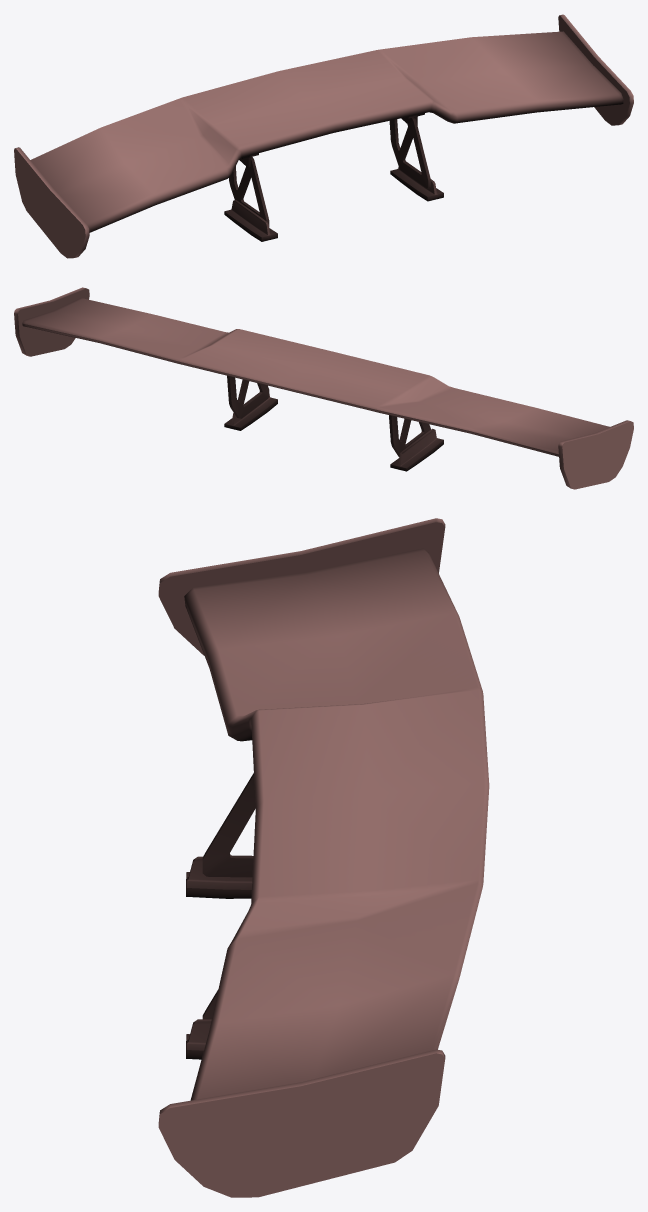
Rendered from Mustang16_Spoiler_07_Trim.fbx.
3 views of the same model, one above another, from view 1: azimuth 30°, elevation 25°; view 2: azimuth 150°, elevation 25°; view 3: azimuth 270°, elevation 25° (orthographic). The views are drawn at different scales.
Visible parts, largest first — view 1: Mustang16_Spoiler_07_Trim; view 2: Mustang16_Spoiler_07_Trim; view 3: Mustang16_Spoiler_07_Trim.
Part boxes in pixels (<box>): Mustang16_Spoiler_07_Trim: <box>14,14,633,258</box>; Mustang16_Spoiler_07_Trim: <box>14,287,633,489</box>; Mustang16_Spoiler_07_Trim: <box>158,518,489,1197</box>.
Bounding box in the file's own units: 157 × 25.98 × 40.99.
